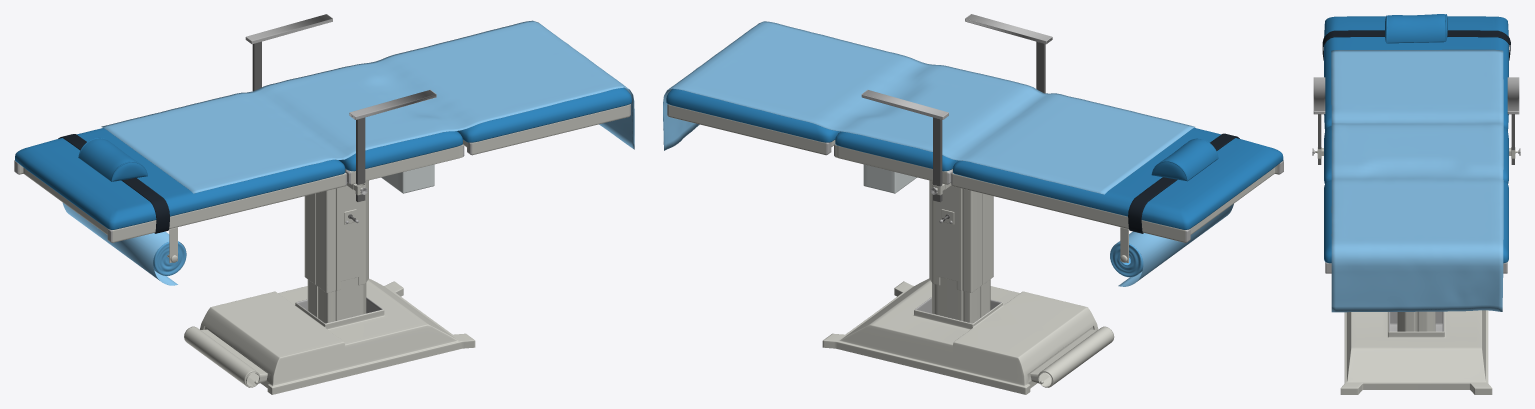
File: Camilla.fbx
The picture shows the model from 3 angles, left to right: view 1: azimuth 30°, elevation 25°; view 2: azimuth 150°, elevation 25°; view 3: azimuth 270°, elevation 25°; orthographic projection. The views are drawn at different scales.
Parts seen in each view (by area): view 1: Archmodels70_011_20, Archmodels70_011_07, Archmodels70_011_04, Archmodels70_011_01, Archmodels70_011_13, Archmodels70_011_03, Archmodels70_011_21, Archmodels70_011_08, Archmodels70_011_14, Archmodels70_011_05, Archmodels70_011_02, Archmodels70_011_22; view 2: Archmodels70_011_20, Archmodels70_011_07, Archmodels70_011_04, Archmodels70_011_01, Archmodels70_011_13, Archmodels70_011_08, Archmodels70_011_03, Archmodels70_011_21, Archmodels70_011_14, Archmodels70_011_05, Archmodels70_011_02, Archmodels70_011_22; view 3: Archmodels70_011_20, Archmodels70_011_07, Archmodels70_011_04, Archmodels70_011_21, Archmodels70_011_13, Archmodels70_011_01, Archmodels70_011_05, Archmodels70_011_03, Archmodels70_011_10, Archmodels70_011_14.
Part boxes in pixels (x1=…): Archmodels70_011_20: x1=101, y1=20, x2=634, y2=193; Archmodels70_011_07: x1=19, y1=104, x2=629, y2=394; Archmodels70_011_04: x1=15, y1=128, x2=345, y2=229; Archmodels70_011_01: x1=457, y1=88, x2=631, y2=142; Archmodels70_011_13: x1=14, y1=14, x2=630, y2=242; Archmodels70_011_03: x1=339, y1=131, x2=462, y2=171; Archmodels70_011_21: x1=78, y1=137, x2=147, y2=181; Archmodels70_011_08: x1=62, y1=203, x2=186, y2=285; Archmodels70_011_14: x1=252, y1=41, x2=365, y2=221; Archmodels70_011_05: x1=58, y1=134, x2=169, y2=233; Archmodels70_011_02: x1=381, y1=164, x2=434, y2=193; Archmodels70_011_22: x1=153, y1=241, x2=186, y2=275; Archmodels70_011_20: x1=663, y1=21, x2=1195, y2=194; Archmodels70_011_07: x1=668, y1=104, x2=1278, y2=394; Archmodels70_011_04: x1=953, y1=128, x2=1283, y2=229; Archmodels70_011_01: x1=666, y1=89, x2=840, y2=142; Archmodels70_011_13: x1=667, y1=14, x2=1283, y2=242; Archmodels70_011_08: x1=1110, y1=204, x2=1233, y2=286; Archmodels70_011_03: x1=835, y1=131, x2=958, y2=171; Archmodels70_011_21: x1=1151, y1=138, x2=1218, y2=181; Archmodels70_011_14: x1=933, y1=41, x2=1045, y2=221; Archmodels70_011_05: x1=1128, y1=133, x2=1239, y2=233; Archmodels70_011_02: x1=863, y1=164, x2=916, y2=193; Archmodels70_011_22: x1=1110, y1=242, x2=1143, y2=276; Archmodels70_011_20: x1=1331, y1=49, x2=1503, y2=312; Archmodels70_011_07: x1=1315, y1=147, x2=1517, y2=394; Archmodels70_011_04: x1=1324, y1=16, x2=1508, y2=130; Archmodels70_011_21: x1=1385, y1=14, x2=1447, y2=43; Archmodels70_011_13: x1=1312, y1=77, x2=1520, y2=273; Archmodels70_011_01: x1=1324, y1=180, x2=1508, y2=263; Archmodels70_011_05: x1=1322, y1=30, x2=1510, y2=60; Archmodels70_011_03: x1=1324, y1=126, x2=1508, y2=183; Archmodels70_011_10: x1=1389, y1=311, x2=1443, y2=331; Archmodels70_011_14: x1=1318, y1=114, x2=1514, y2=164.
Bounding box in the file's own units: 7529 × 3771 × 2749.
